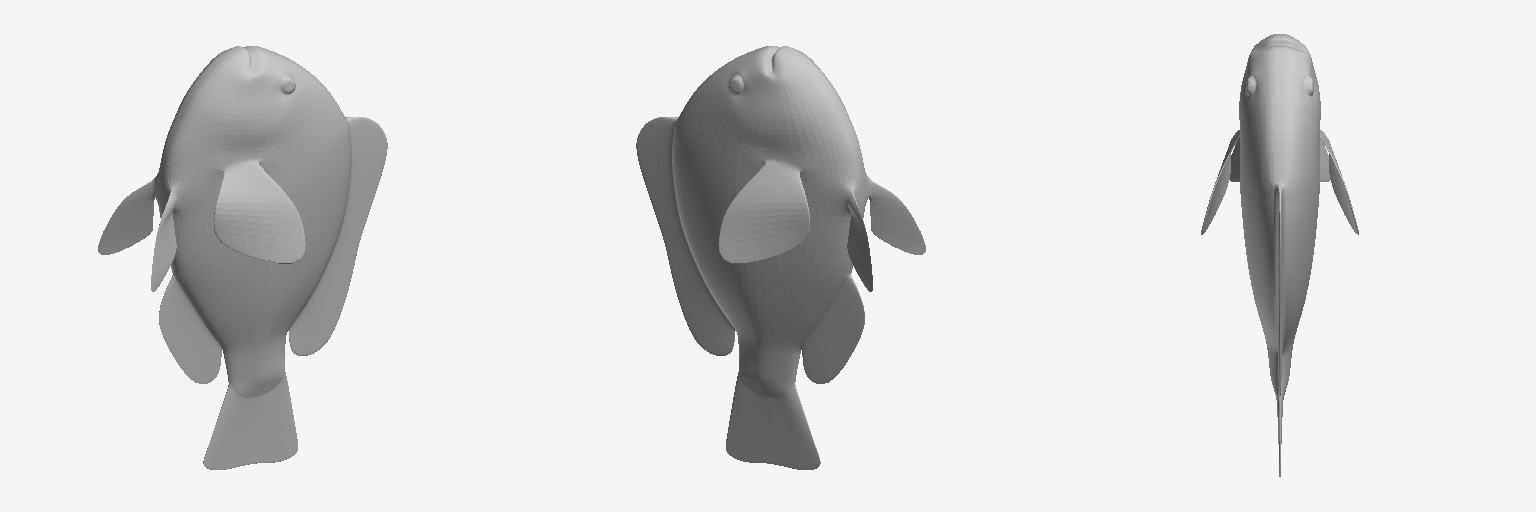
The picture shows the model from 3 angles: view 1: azimuth 30°, elevation 25°; view 2: azimuth 150°, elevation 25°; view 3: azimuth 270°, elevation 25°; orthographic projection.
Parts seen in each view (by area): view 1: 12265_Fish_v1_L2.001; view 2: 12265_Fish_v1_L2.001; view 3: 12265_Fish_v1_L2.001.
Boxes of the visible parts, x1,y1,x2,y2 form: 12265_Fish_v1_L2.001: [98, 46, 387, 469]; 12265_Fish_v1_L2.001: [636, 46, 925, 469]; 12265_Fish_v1_L2.001: [1201, 34, 1358, 476].
Size of the model in its own units: 2.24 by 3.44 by 1.16.